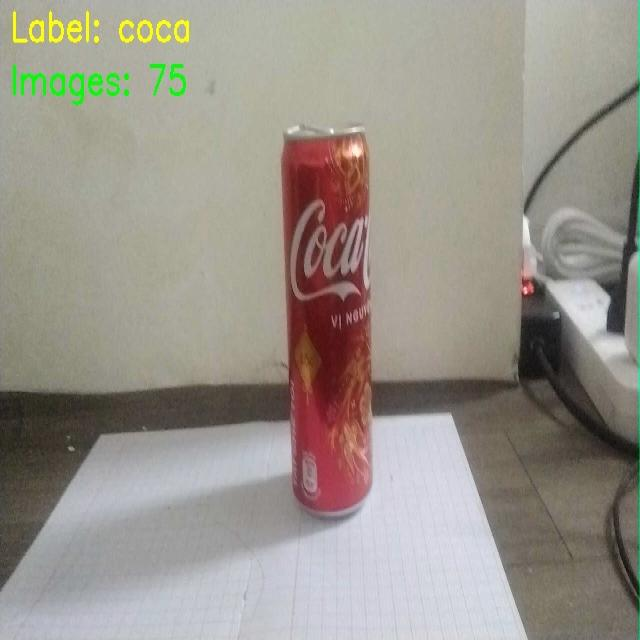Coca: (265, 101, 414, 534)
